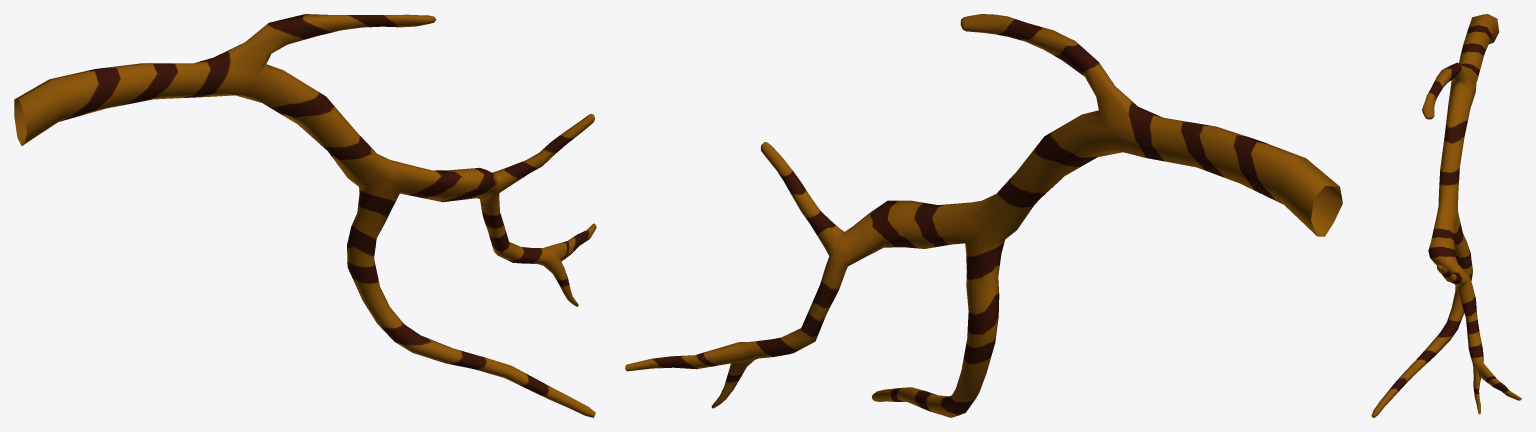
The model's file is trap_branch_C.fbx.
The picture shows the model from 3 angles, left to right: view 1: azimuth 30°, elevation 25°; view 2: azimuth 150°, elevation 25°; view 3: azimuth 270°, elevation 25°; orthographic projection. The views are drawn at different scales.
Parts seen in each view (by area): view 1: trap_branch_C; view 2: trap_branch_C; view 3: trap_branch_C.
Part boxes in pixels (x1,y1,x2,y2): trap_branch_C: (14, 14, 596, 417); trap_branch_C: (625, 14, 1342, 417); trap_branch_C: (1371, 14, 1521, 417).
Size of the model in its own units: 627 by 412 by 204.
